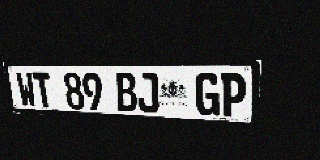8: (62, 72, 85, 110)
9: (81, 72, 104, 111)
B: (114, 72, 138, 112)
G: (195, 73, 220, 116)
J: (136, 72, 159, 113)
P: (220, 73, 247, 117)
T: (32, 72, 54, 108)
W: (15, 72, 37, 107)
